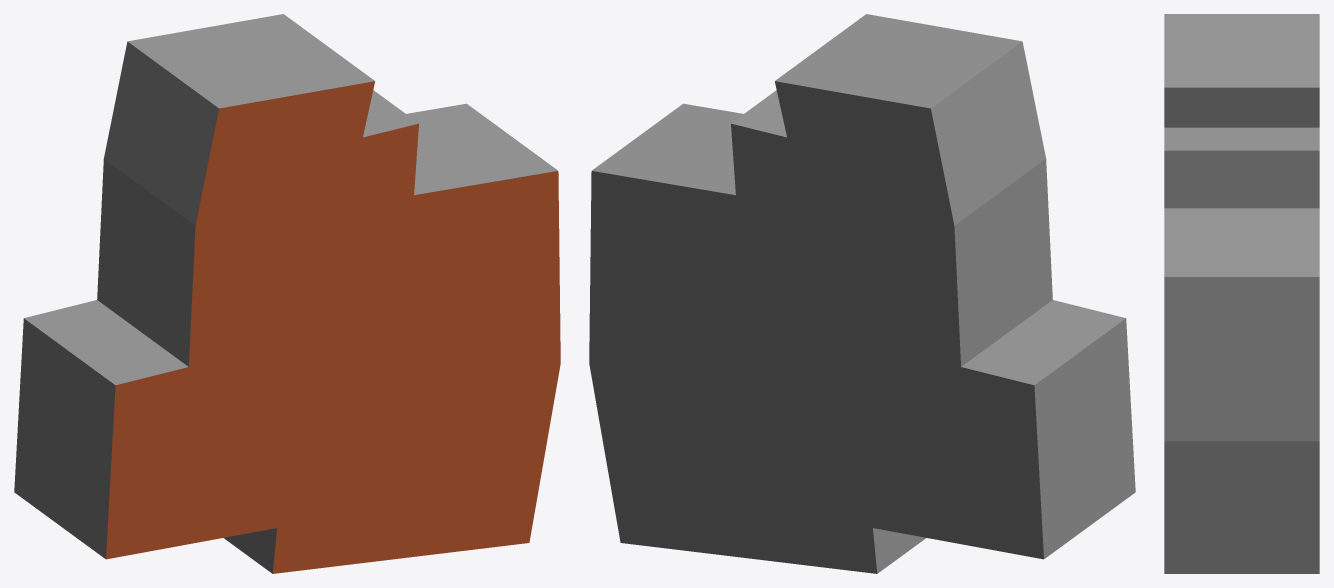
File: construction_6010_assumed_A_Casa_h6m.obj
The picture shows the model from 3 angles, left to right: view 1: azimuth 30°, elevation 25°; view 2: azimuth 150°, elevation 25°; view 3: azimuth 270°, elevation 25°; orthographic projection. The views are drawn at different scales.
Parts seen in each view (by area): view 1: construction_6010_assumed_A_Casa; view 2: construction_6010_assumed_A_Casa; view 3: construction_6010_assumed_A_Casa.
Part boxes in pixels (left/top/right/bottom): construction_6010_assumed_A_Casa: left=14, top=14, right=560, bottom=573; construction_6010_assumed_A_Casa: left=589, top=14, right=1135, bottom=573; construction_6010_assumed_A_Casa: left=1164, top=14, right=1319, bottom=573.
Size of the model in its own units: 17.17 by 18.41 by 6.
